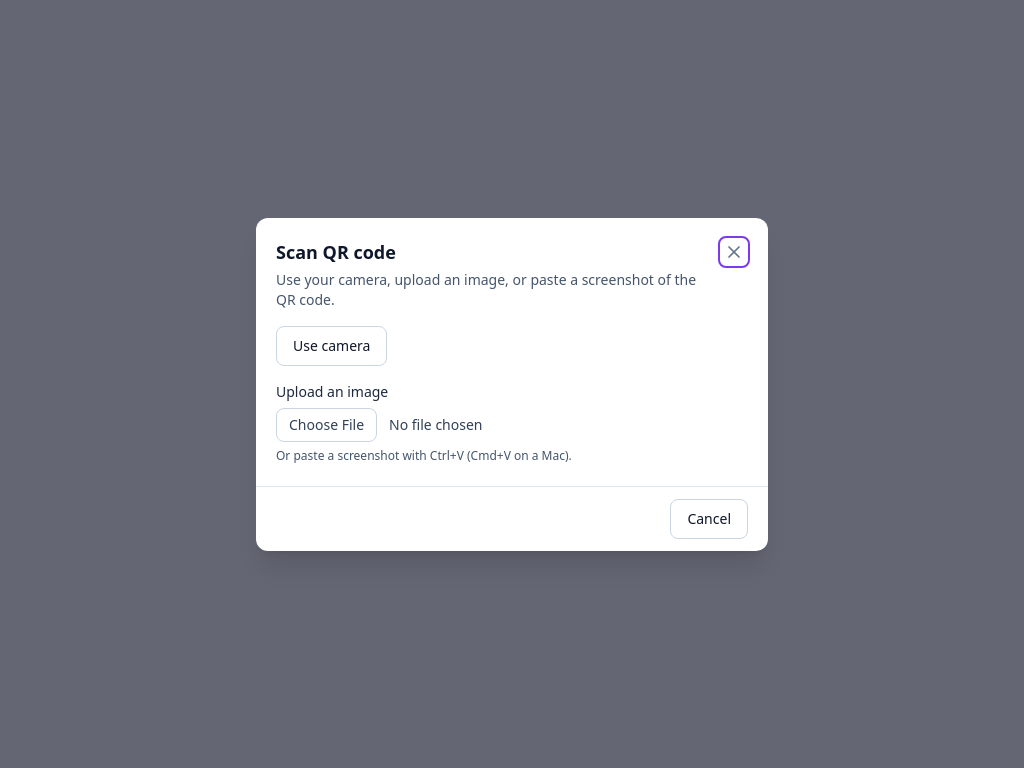
Scenario: QrScannerDialog: camera › shows a clear message when permission is denied
Click the button "Use camera". click: {"x": 332, "y": 346}
box: [276, 326, 387, 366]
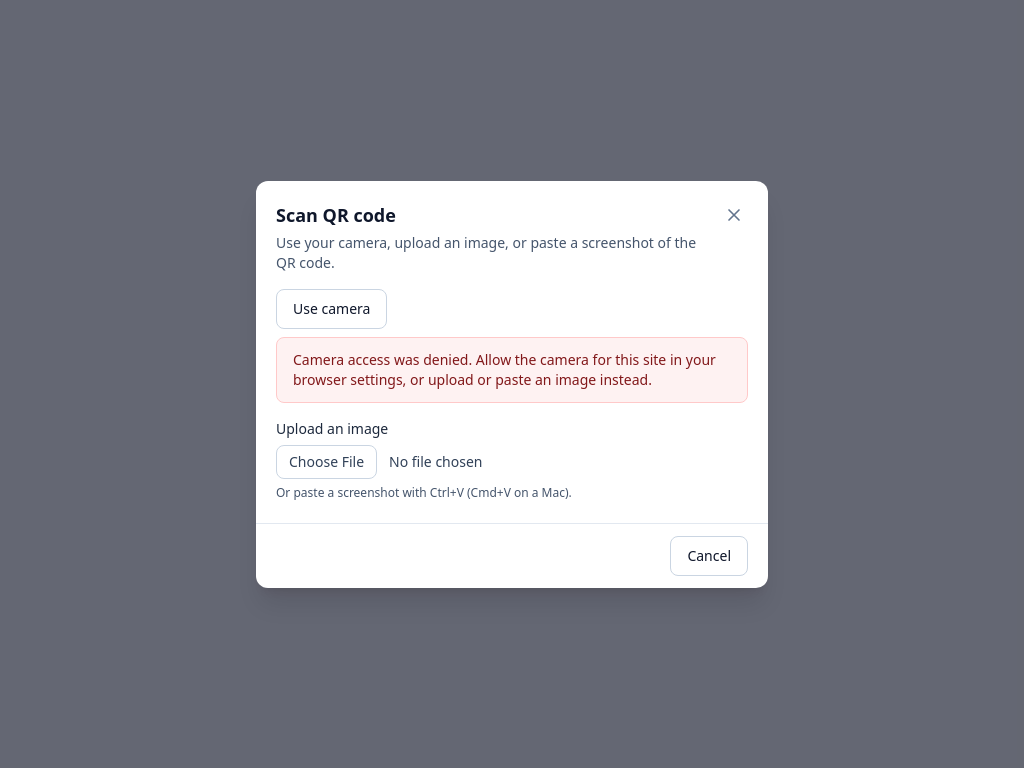
Expected: the file field labelled "Upload an image" is shown, [276, 444, 748, 478]
Now the message shows "Camera access was denied", box [293, 350, 716, 388]
